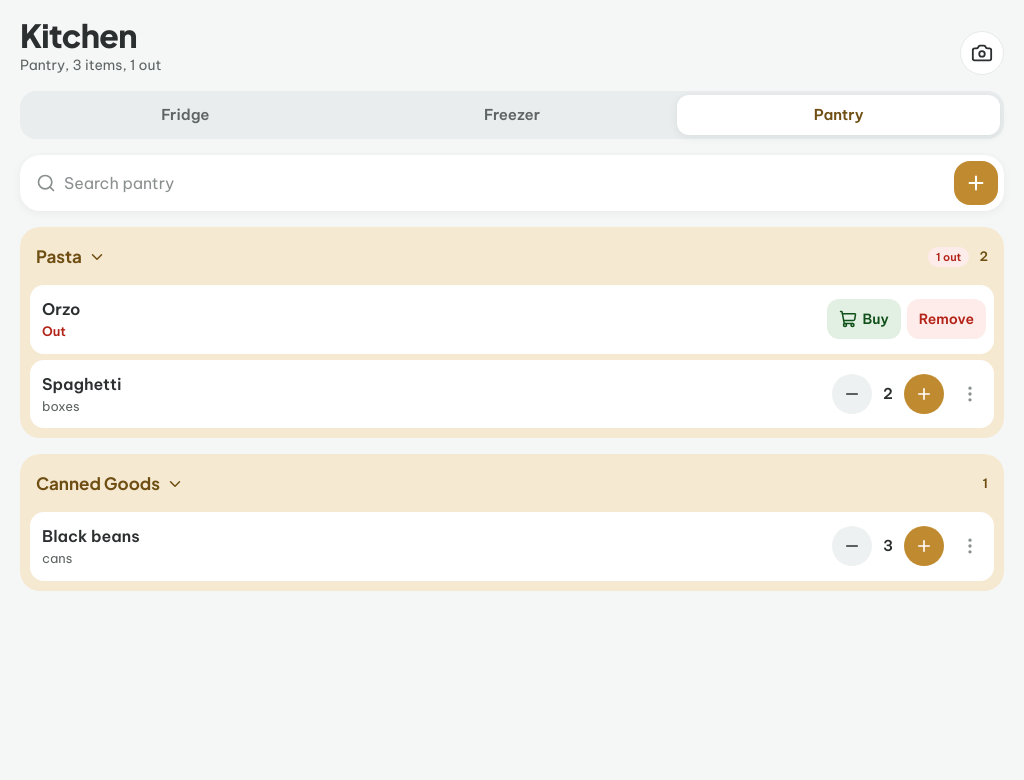
Test case: Kitchen › an item at zero shows Out with Buy and Remove; Remove hides it behind an undo toast
expect the text "Orzo" is shown: met, box [42,299,80,319]
expect the text "Out" is shown: met, box [42,322,66,342]
Click the button with aria-label "Remove Orzo".
click(946, 319)  # box [907,299,986,339]
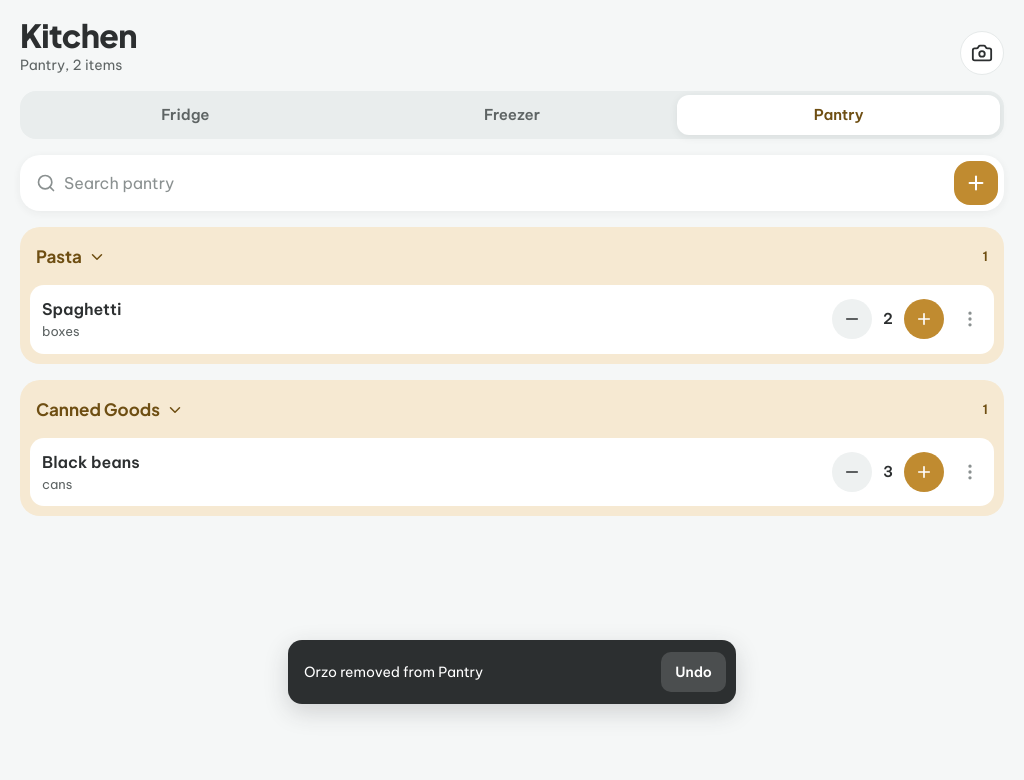
expect the text "Orzo removed from Pantry" is shown: met, box [304,663,483,681]
